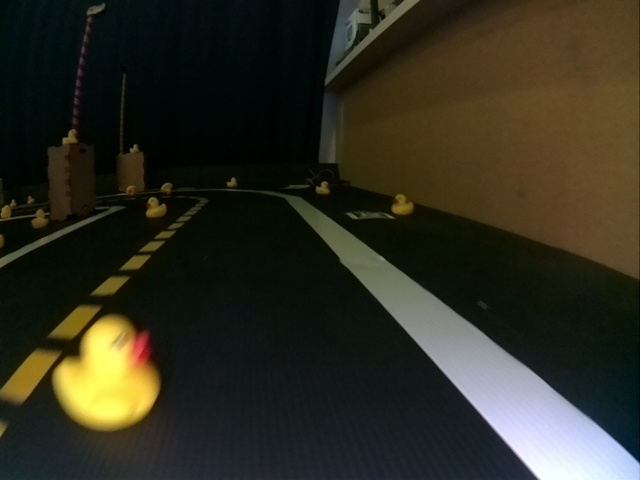Duckie: (53, 317, 161, 430), (391, 193, 414, 214), (146, 197, 167, 216), (31, 209, 49, 228), (63, 129, 78, 144), (316, 181, 330, 195), (161, 182, 174, 194), (226, 177, 237, 187), (126, 185, 135, 195), (130, 144, 138, 153)
QR code: (348, 210, 392, 219)
